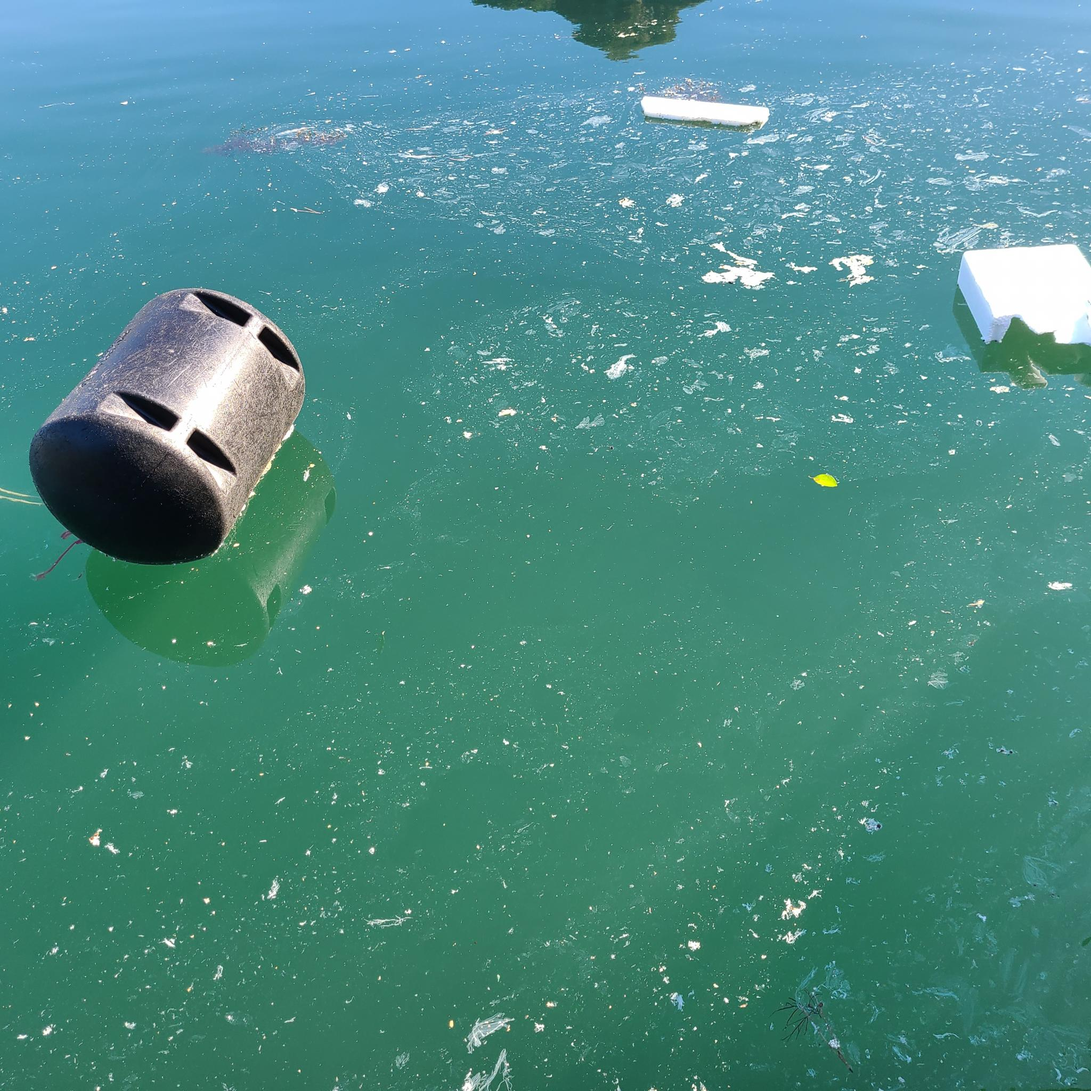sampah_terapung: (30, 289, 306, 566), (958, 245, 1091, 347), (641, 96, 770, 126), (30, 532, 86, 581), (1, 489, 47, 506)
